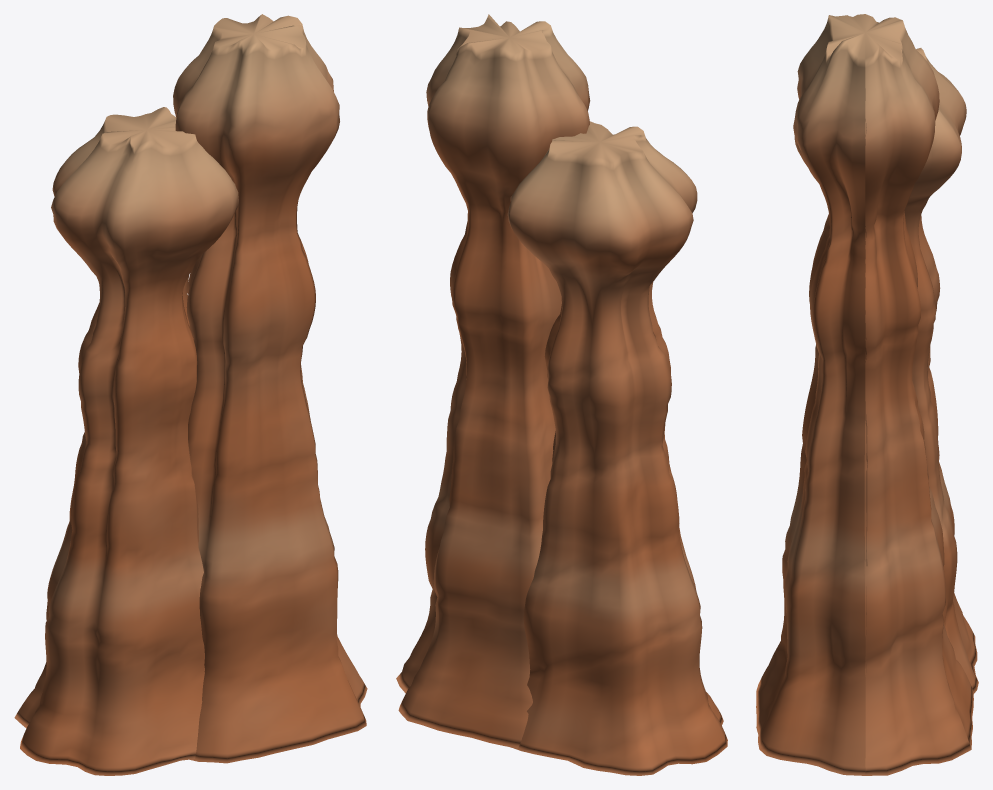
File: hoodoo-twins.glb
3 views of the same model, side by side, from view 1: azimuth 30°, elevation 25°; view 2: azimuth 150°, elevation 25°; view 3: azimuth 270°, elevation 25° (orthographic). The views are drawn at different scales.
Parts seen in each view (by area): view 1: hoodoo-twins; view 2: hoodoo-twins; view 3: hoodoo-twins.
Boxes of the visible parts, <box> form: hoodoo-twins: <box>14,14,367,775</box>; hoodoo-twins: <box>396,14,727,775</box>; hoodoo-twins: <box>756,14,978,775</box>.
Bounding box in the file's own units: 17.84 × 35.51 × 10.22.
